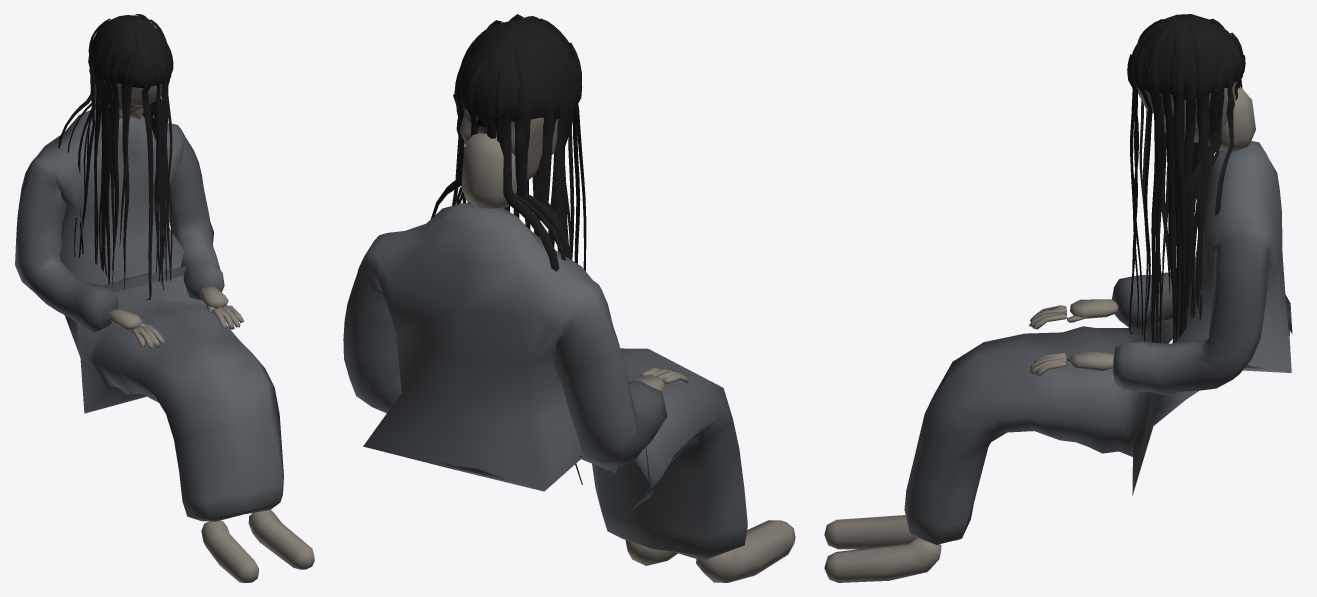
Rendered from fourth.glb.
3 renders of one model, left to right at view 1: azimuth 30°, elevation 25°; view 2: azimuth 150°, elevation 25°; view 3: azimuth 270°, elevation 25°, orthographic. The views are drawn at different scales.
Visible parts, largest first — view 1: Fourth; view 2: Fourth; view 3: Fourth.
Boxes of the visible parts, x1=… form: Fourth: x1=15, y1=14, x2=314, y2=582; Fourth: x1=343, y1=14, x2=795, y2=582; Fourth: x1=824, y1=14, x2=1292, y2=582.
Bounding box in the file's own units: 0.4692 × 1.07 × 0.8468.
4 materials, 1 textured.
